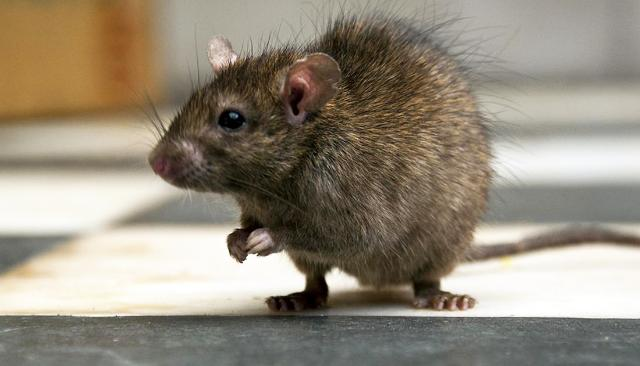rat: (127, 1, 549, 323)
